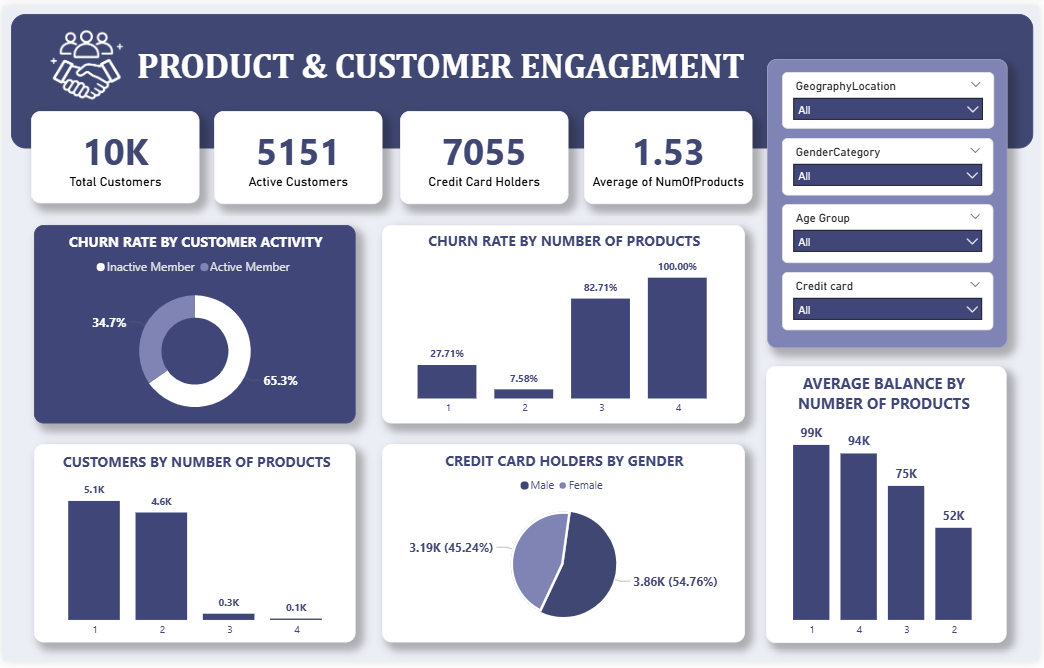

The page's visual inventory and layout, read from the dashboard file:
{"tool":"powerbi","page":{"name":"PRODUCT & ENGAGEMENT","canvas":[1280,809],"ordinal":3},"visuals":[{"type":"textbox","box":[9.8,9.8,1262.2,165.9],"z":0},{"type":"textbox","box":[160,42.9,782.9,64.3],"z":1000},{"type":"clusteredColumnChart","title":"CHURN RATE BY NUMBER OF PRODUCTS","fields":{"Y":["Measures Table.Churn_Rate (%)"],"Category":["Bank_Churn.NumOfProducts"]},"box":[468.5,269.9,447.9,245.2],"z":2000},{"type":"clusteredColumnChart","title":"AVERAGE BALANCE BY NUMBER OF PRODUCTS","fields":{"Category":["Bank_Churn.NumOfProducts"],"Y":["Measures Table.Avg_Balance"]},"box":[942.5,443.8,297.3,342.5],"z":3000},{"type":"donutChart","title":"CHURN RATE BY CUSTOMER ACTIVITY","fields":{"Category":["Bank_Churn.ActiveCategory"],"Y":["Measures Table.Churn_Rate (%)"]},"box":[38.4,269.9,397.3,245.2],"z":4000},{"type":"card","fields":{"Values":["Measures Table.Active Customers"]},"box":[260,129.3,208,114.7],"z":5000},{"type":"card","fields":{"Values":["Sum(Bank_Churn.HasCrCard)"]},"box":[490.7,129.3,208,114.7],"z":6000},{"type":"card","fields":{"Values":["Avg(Bank_Churn.NumOfProducts)"]},"box":[717.3,129.3,208,114.7],"z":7000},{"type":"clusteredColumnChart","title":"CUSTOMERS BY NUMBER OF PRODUCTS ","fields":{"Category":["Bank_Churn.NumOfProducts"],"Y":["CountNonNull(Bank_Churn.CustomerId)"]},"box":[38.4,541.1,397.3,245.2],"z":8000},{"type":"pieChart","title":"CREDIT CARD HOLDERS BY GENDER","fields":{"Category":["Bank_Churn.GenderCategory"],"Y":["Sum(Bank_Churn.HasCrCard)"]},"box":[468.5,541.1,447.9,245.2],"z":9000},{"type":"card","fields":{"Values":["Measures Table.Total Customers"]},"box":[34.5,129.8,208.4,114.3],"z":10000},{"type":"textbox","box":[942.7,65.3,297.3,357.3],"z":11000},{"type":"group","id":"g1","title":"Group 1","box":[961.3,81.3,262,318.7],"z":12000},{"type":"image","box":[0,14.3,205.7,121.4],"z":13000},{"type":"slicer","fields":{"Values":["Bank_Churn.GeographyLocation"]},"box":[961.3,81.3,262,69.8],"z":14000,"group":"g1"},{"type":"slicer","fields":{"Values":["Bank_Churn.Age Group"]},"box":[961.3,244,261.3,73.3],"z":15000,"group":"g1"},{"type":"slicer","fields":{"Values":["Bank_Churn.GenderCategory"]},"box":[961.3,162.6,261.3,70.7],"z":16000,"group":"g1"},{"type":"slicer","fields":{"Values":["Bank_Churn.Category"]},"box":[961.3,328,261.3,72],"z":17000,"group":"g1"}]}

Visuals, with their boxes in screenshot pixels (x1, y1, x2, y2), scaled from the page's 1280x809 canvas onto the 1044x668 screenshot:
textbox: (8,8,1037,145)
textbox: (130,35,769,89)
"CHURN RATE BY NUMBER OF PRODUCTS" clusteredColumnChart: (382,223,747,425)
"AVERAGE BALANCE BY NUMBER OF PRODUCTS" clusteredColumnChart: (769,366,1011,649)
"CHURN RATE BY CUSTOMER ACTIVITY" donutChart: (31,223,355,425)
card - Measures Table.Active Customers: (212,107,382,201)
card - Sum(Bank_Churn.HasCrCard): (400,107,570,201)
card - Avg(Bank_Churn.NumOfProducts): (585,107,755,201)
"CUSTOMERS BY NUMBER OF PRODUCTS " clusteredColumnChart: (31,447,355,649)
"CREDIT CARD HOLDERS BY GENDER" pieChart: (382,447,747,649)
card - Measures Table.Total Customers: (28,107,198,202)
textbox: (769,54,1011,349)
"Group 1" group: (784,67,998,330)
image: (0,12,168,112)
slicer - Bank_Churn.GeographyLocation: (784,67,998,125)
slicer - Bank_Churn.Age Group: (784,201,997,262)
slicer - Bank_Churn.GenderCategory: (784,134,997,193)
slicer - Bank_Churn.Category: (784,271,997,330)
